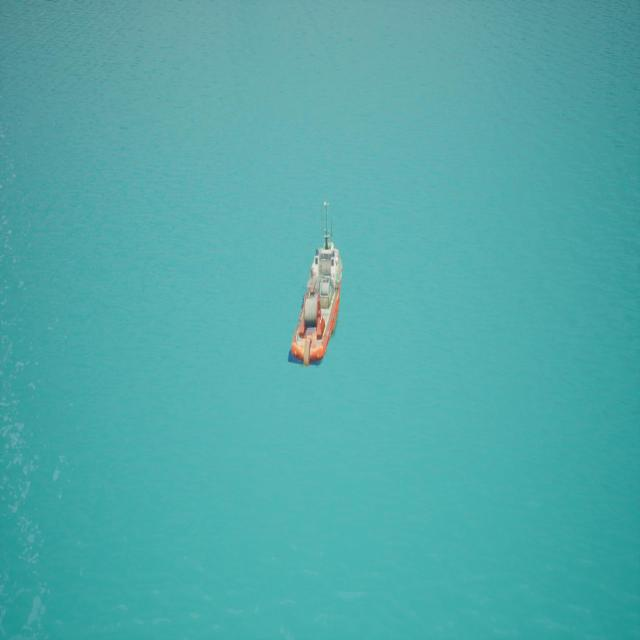tug boat: (293, 201, 345, 368)
